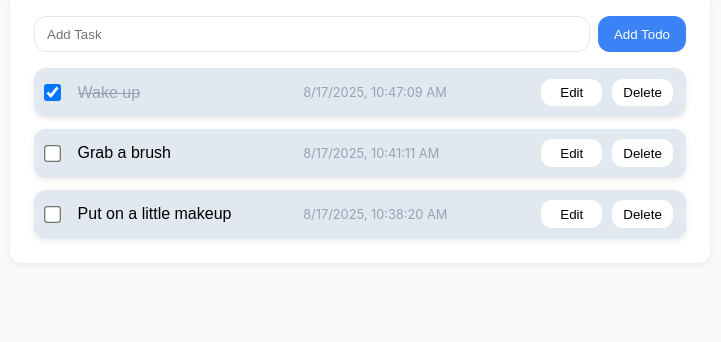
Test: Todo App integration › can add, edit, toggle, and delete a task
Add a task
Step 1. Type "My first task" into the field with placeholder "Add Task" → (312, 34), box 34,16 -> 590,52
Step 2. Press Enter in the 1st field with placeholder "Add Task", box 34,16 -> 590,52
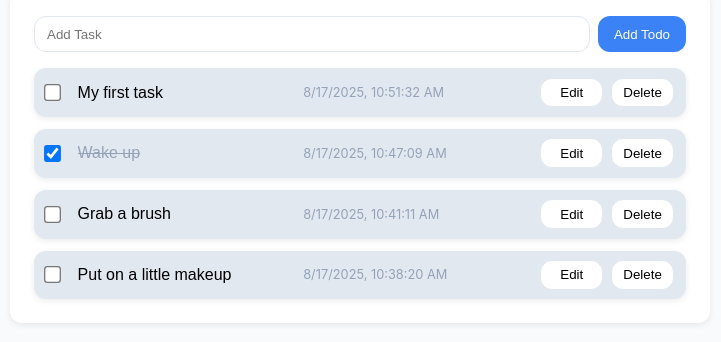
Now the field showing "my first task" next to "8/17/2025, 10:51:32 AM" is shown, box 67,76 -> 295,109
Edit the task
Step 3. Click the button "Edit" next to "8/17/2025, 10:51:32 AM" → (572, 93), box 540,78 -> 603,108
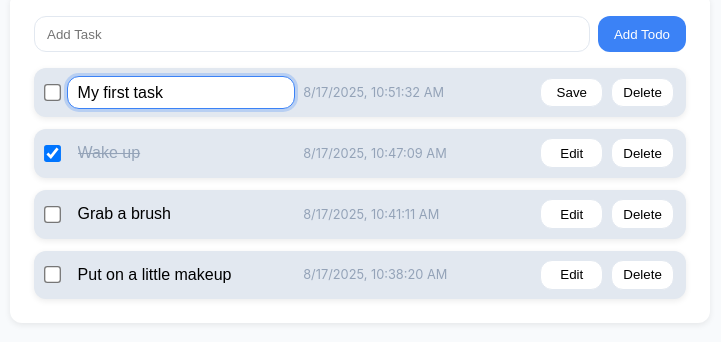
Step 4. Replace the text in the field showing "my first task" next to "8/17/2025, 10:51:32 AM" with "Updated task" → (181, 93), box 67,76 -> 295,109
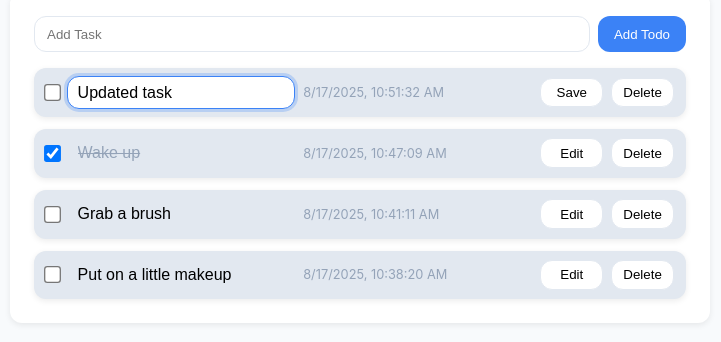
Step 5. Press Enter in the field showing "my first task" next to "8/17/2025, 10:51:32 AM", box 67,76 -> 295,109
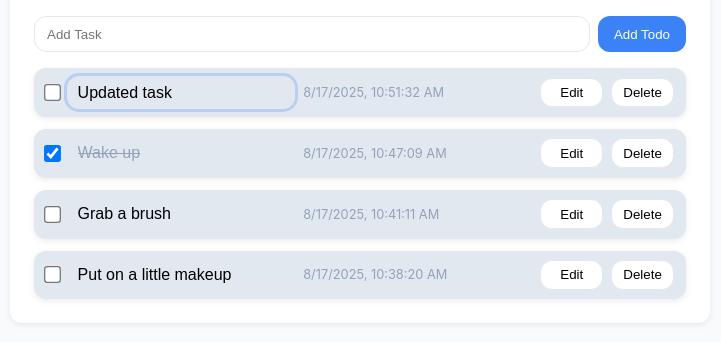
Now the checkbox in the row of "8/17/2025, 10:51:32 AM" is not checked
Step 6. Click the checkbox in the row of "8/17/2025, 10:51:32 AM" → (52, 93), box 44,84 -> 61,101
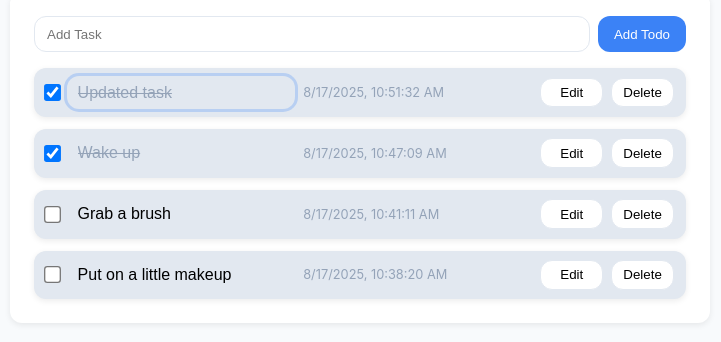
Now the checkbox in the row of "8/17/2025, 10:51:32 AM" is checked, box 44,84 -> 61,101
Step 7. Click the button "Delete" in the row of "8/17/2025, 10:51:32 AM" → (643, 93), box 611,78 -> 674,108
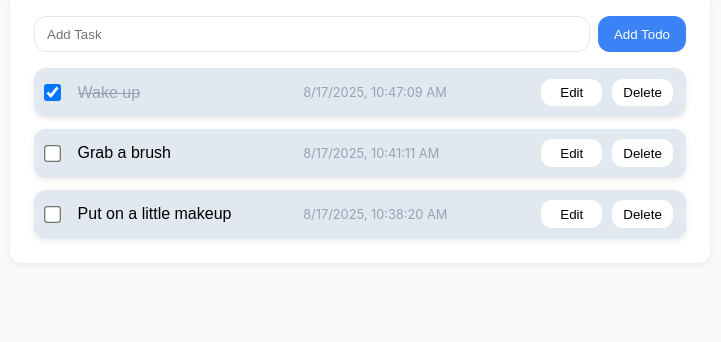
Now the list item "8/17/2025, 10:51:32 AM Edit Delete" is gone
